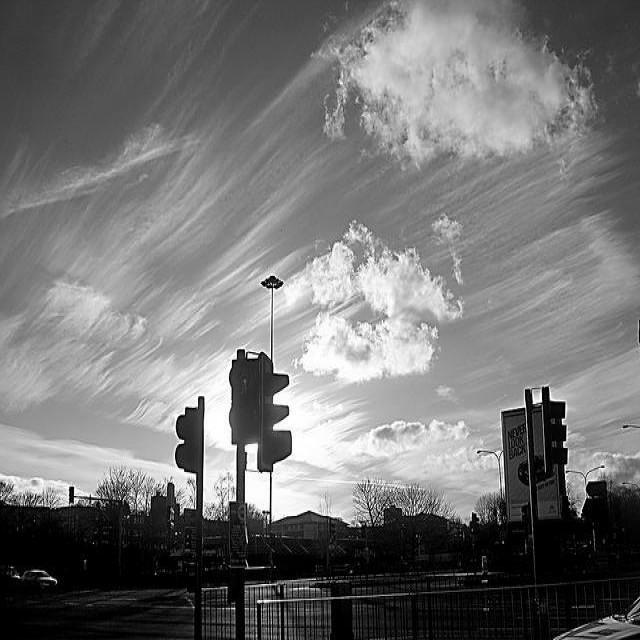vehicle: (559, 593, 640, 639), (19, 569, 57, 589)
